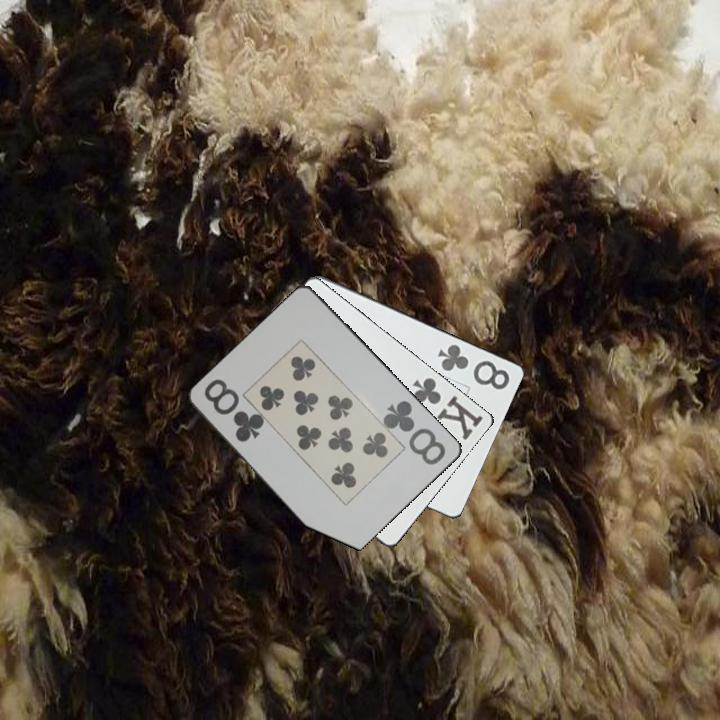8c: (380, 396, 450, 468), (201, 375, 267, 445), (434, 340, 513, 393)
Kc: (409, 374, 486, 443)
